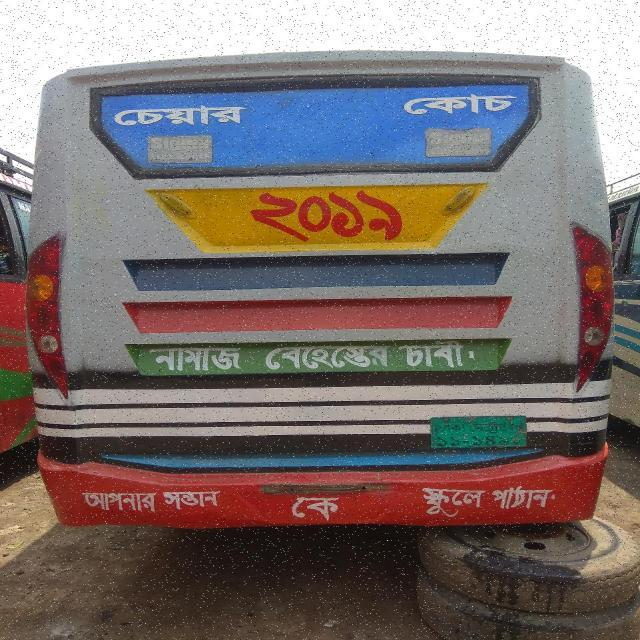numberplate: (426, 413, 533, 454)
